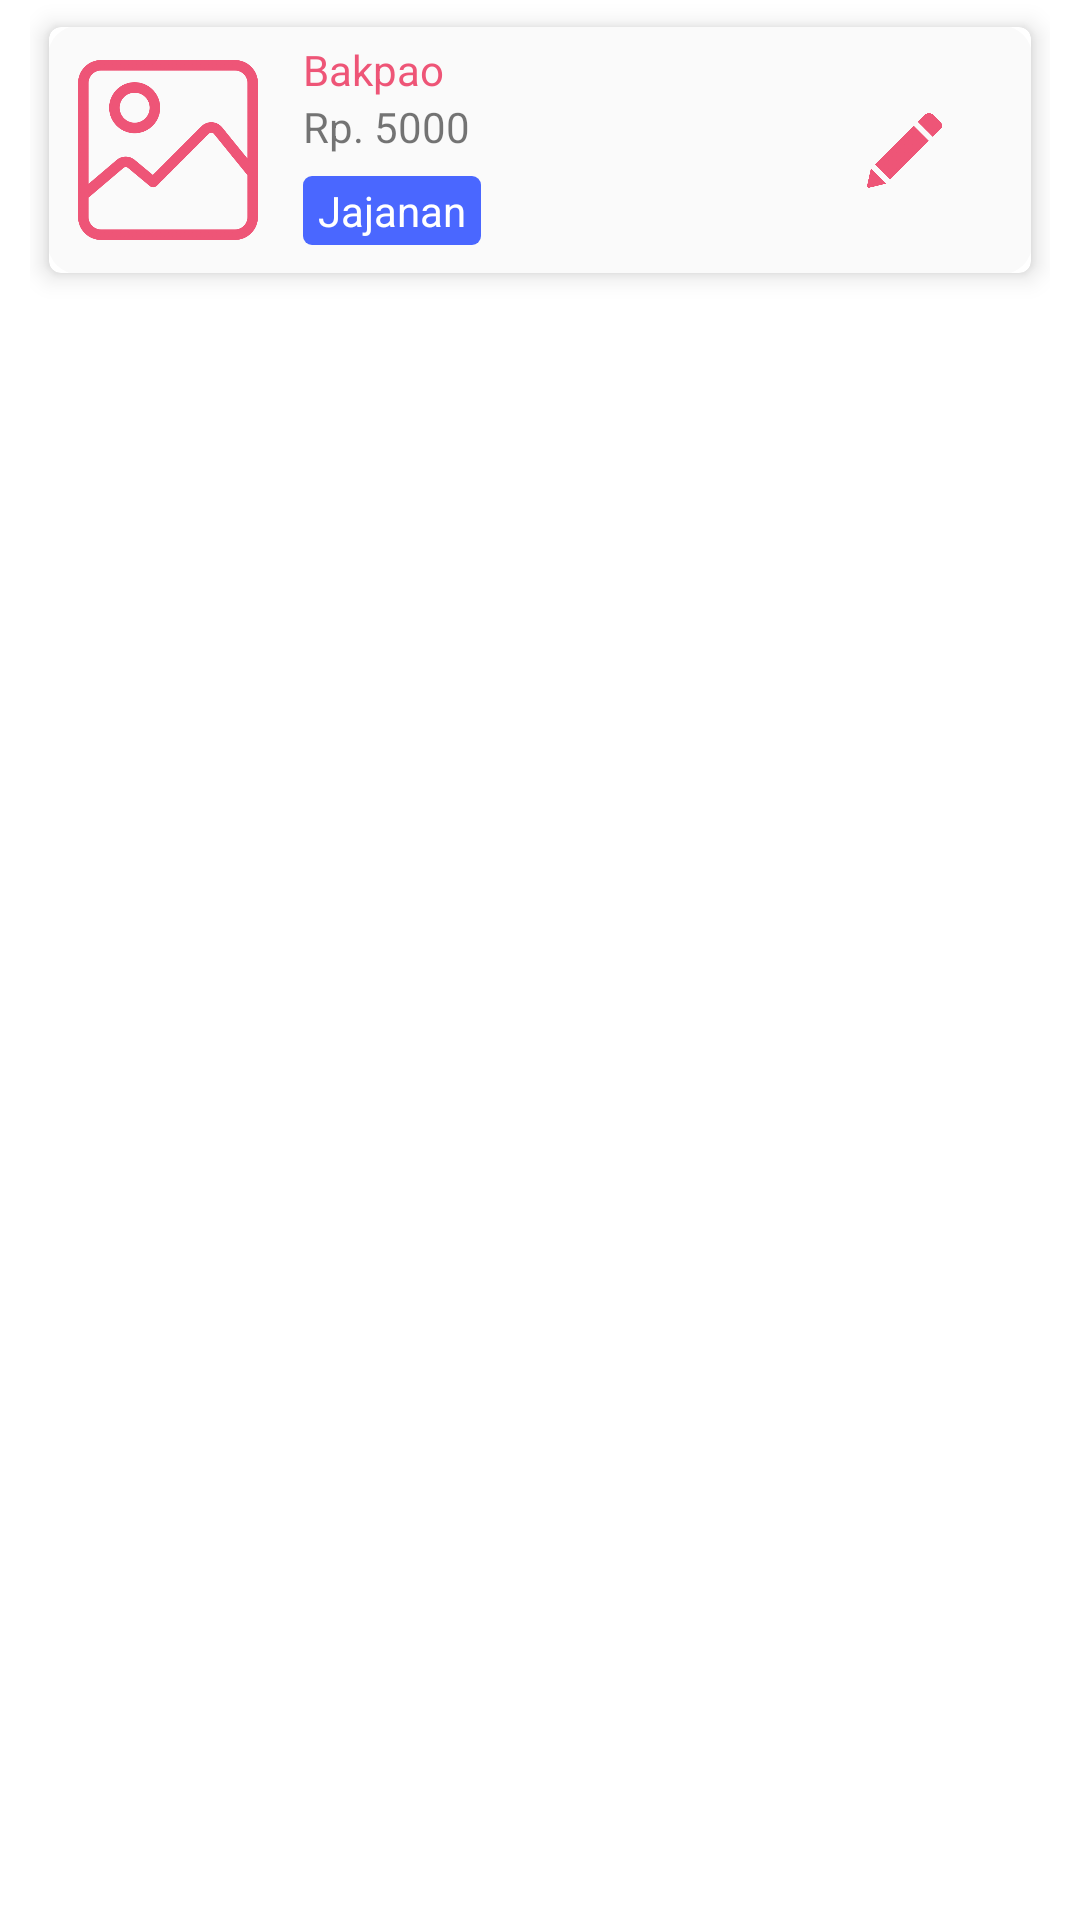

Named icons in this screenshot (1080px x 1920px) and their centers, (x,y):
draw: (904,150)
